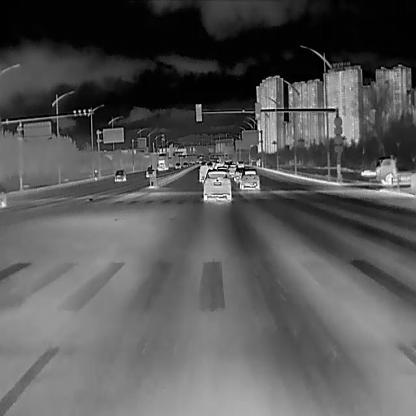car: (375, 154, 415, 186), (203, 168, 232, 201), (240, 169, 259, 190), (157, 153, 168, 170), (199, 165, 210, 182), (233, 168, 244, 184), (113, 168, 126, 181), (227, 164, 236, 177), (146, 166, 155, 177), (237, 160, 243, 169), (174, 161, 181, 168)
